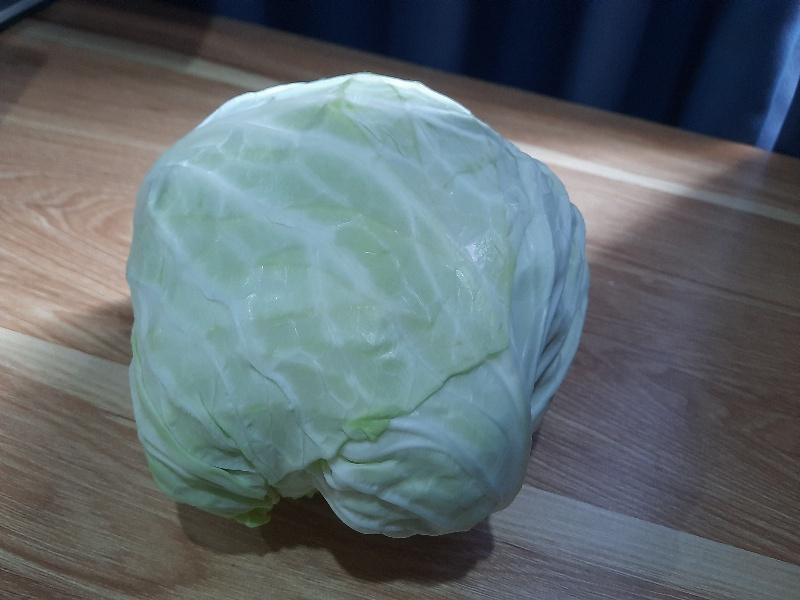vege: (111, 66, 592, 550)
